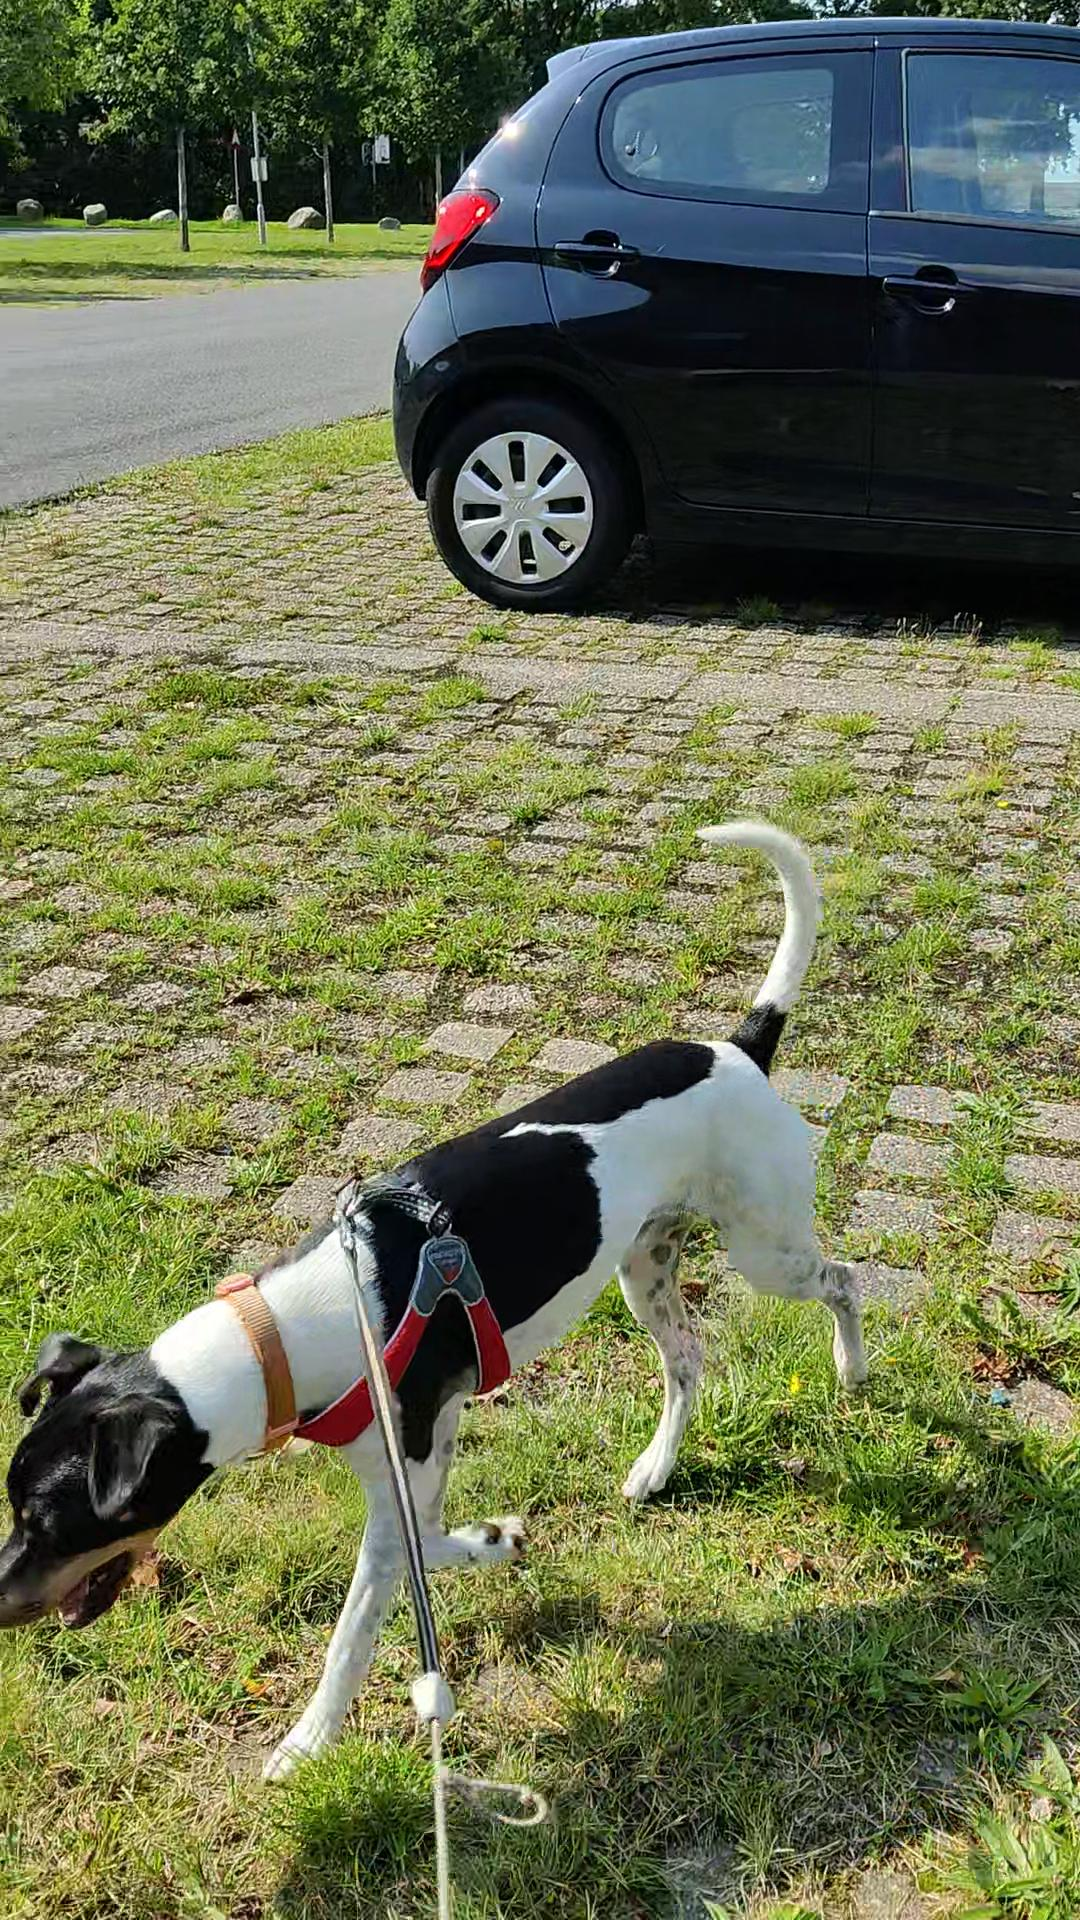Dog: (0, 796, 887, 1784)
